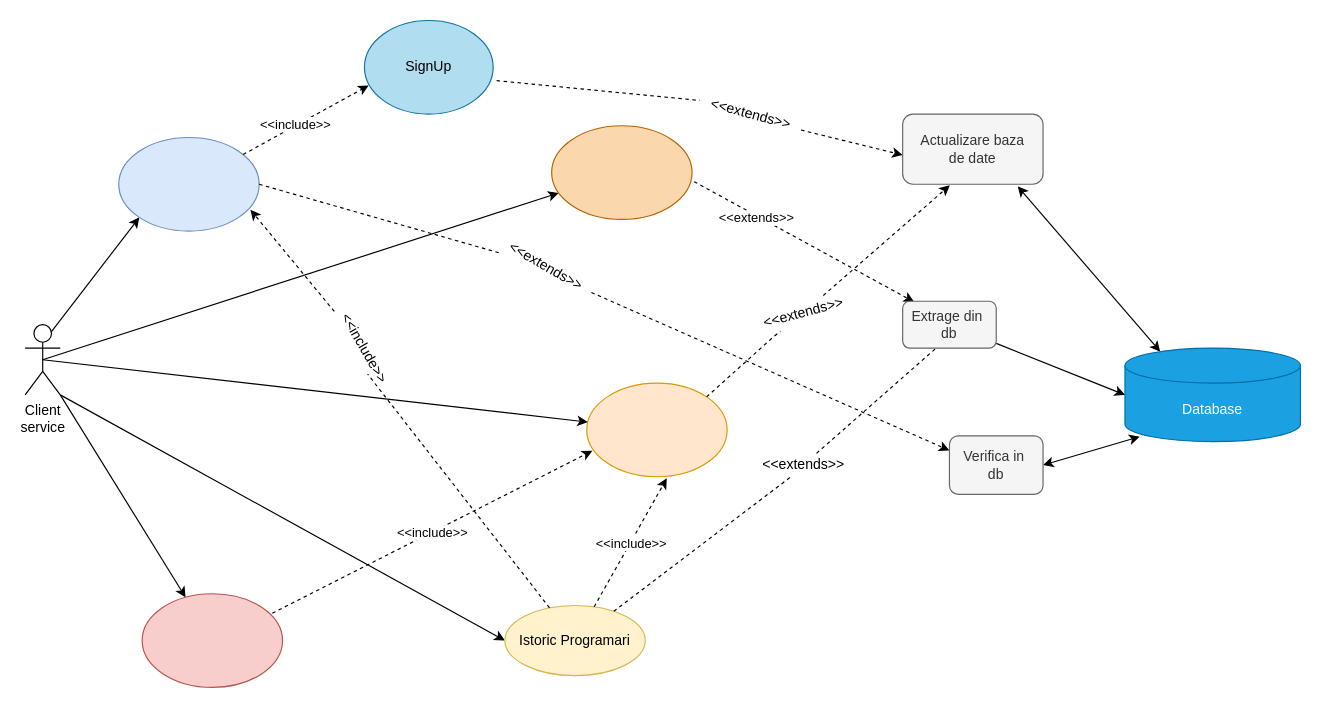
Some shapes in this 1321 by 708 pixel diagram are drawn without their labels. Here are the shapes that lost their labels. From the top down, the centre of each, then its label:
pixel 188 183: Login
pixel 621 172: Calendar
pixel 656 429: Programare
pixel 212 640: Accepta/refuza oferta furnizor
